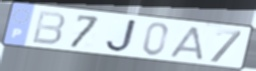0: (141, 21, 170, 57)
7: (209, 28, 243, 64), (69, 14, 102, 49)
A: (168, 25, 205, 62)
B: (30, 9, 68, 46)
J: (104, 18, 140, 53)
